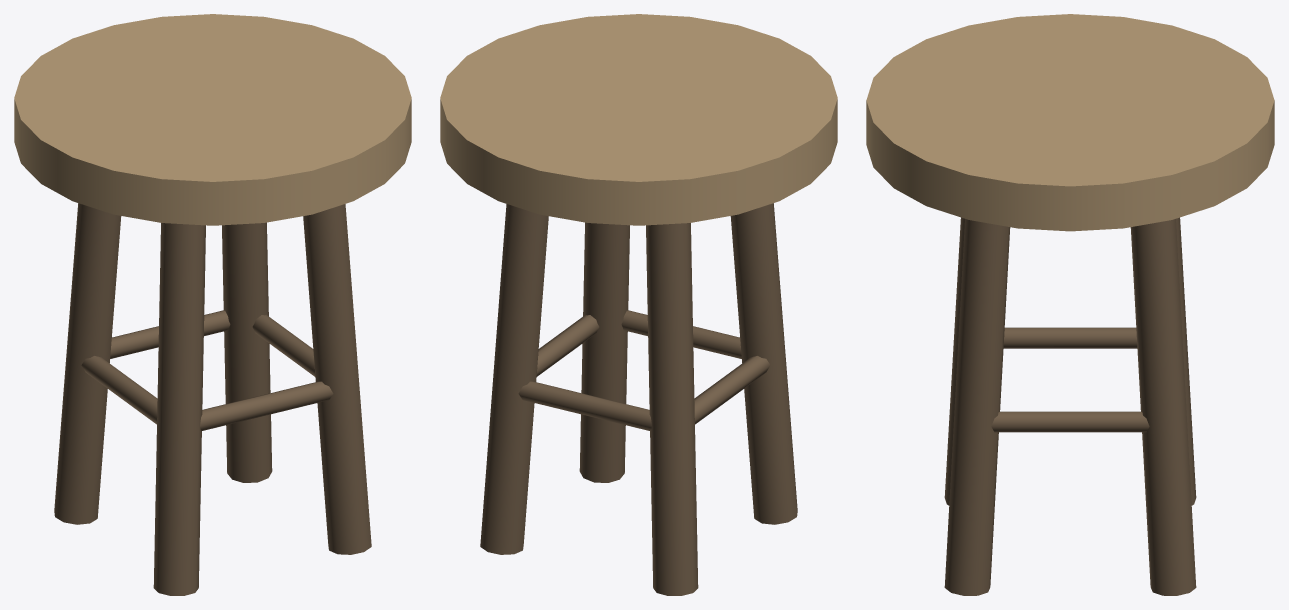
The model's file is stool_round.glb.
3 views of the same model, side by side, from view 1: azimuth 30°, elevation 25°; view 2: azimuth 150°, elevation 25°; view 3: azimuth 270°, elevation 25° (orthographic). The views are drawn at different scales.
Visible parts, largest first — view 1: stool_round; view 2: stool_round; view 3: stool_round.
Part boxes in pixels (x1,y1,x2,y2): stool_round: (14,14,411,595); stool_round: (440,14,837,595); stool_round: (866,14,1274,595).
Bounding box in the file's own units: 0.37 × 0.4455 × 0.37.
